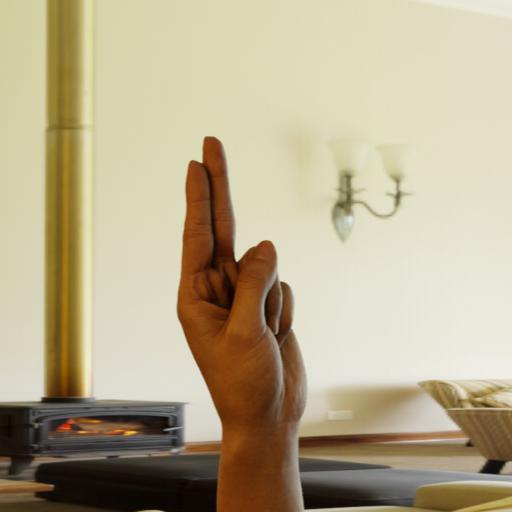U: (152, 115, 332, 460)
